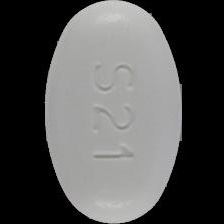60429-148: (0, 0, 224, 224)
